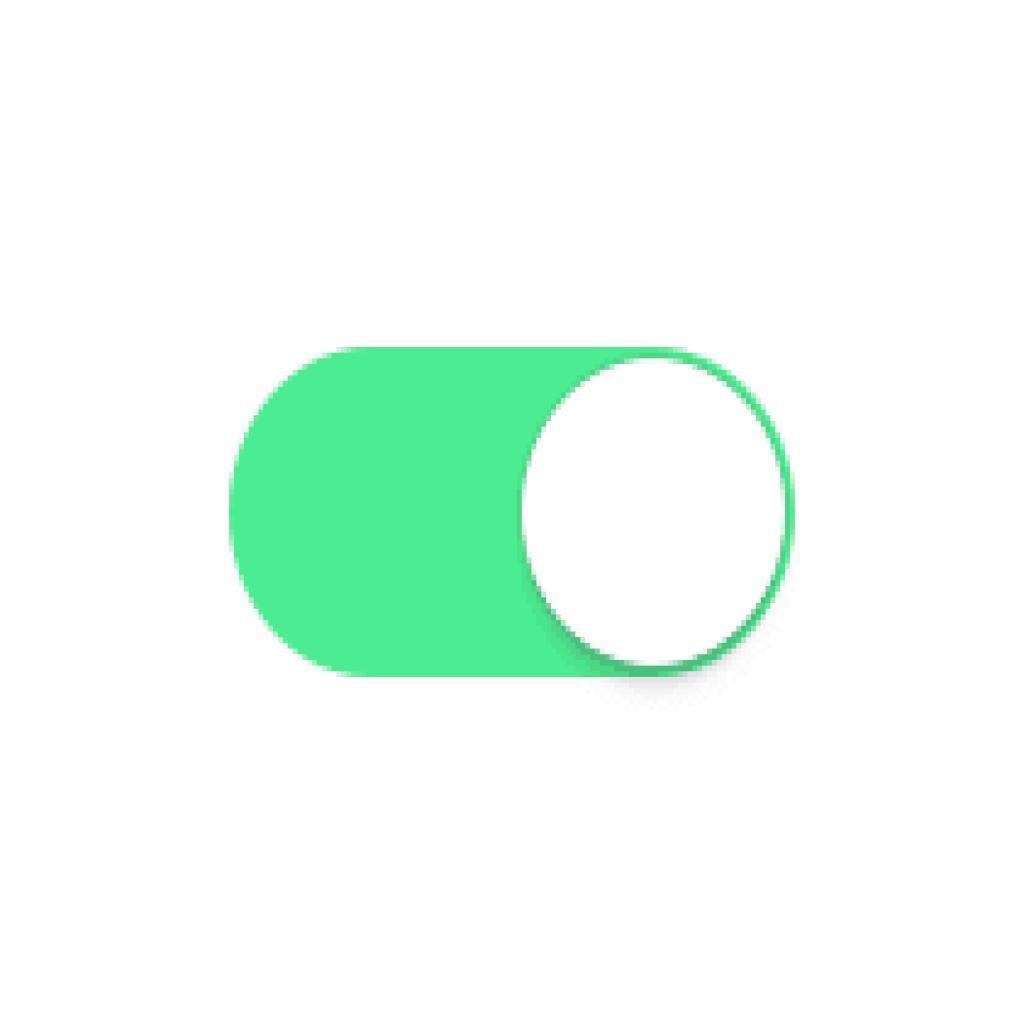switch: (221, 344, 804, 682)
